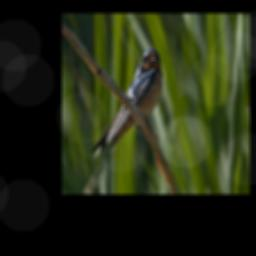Swallow: (88, 47, 163, 182)
